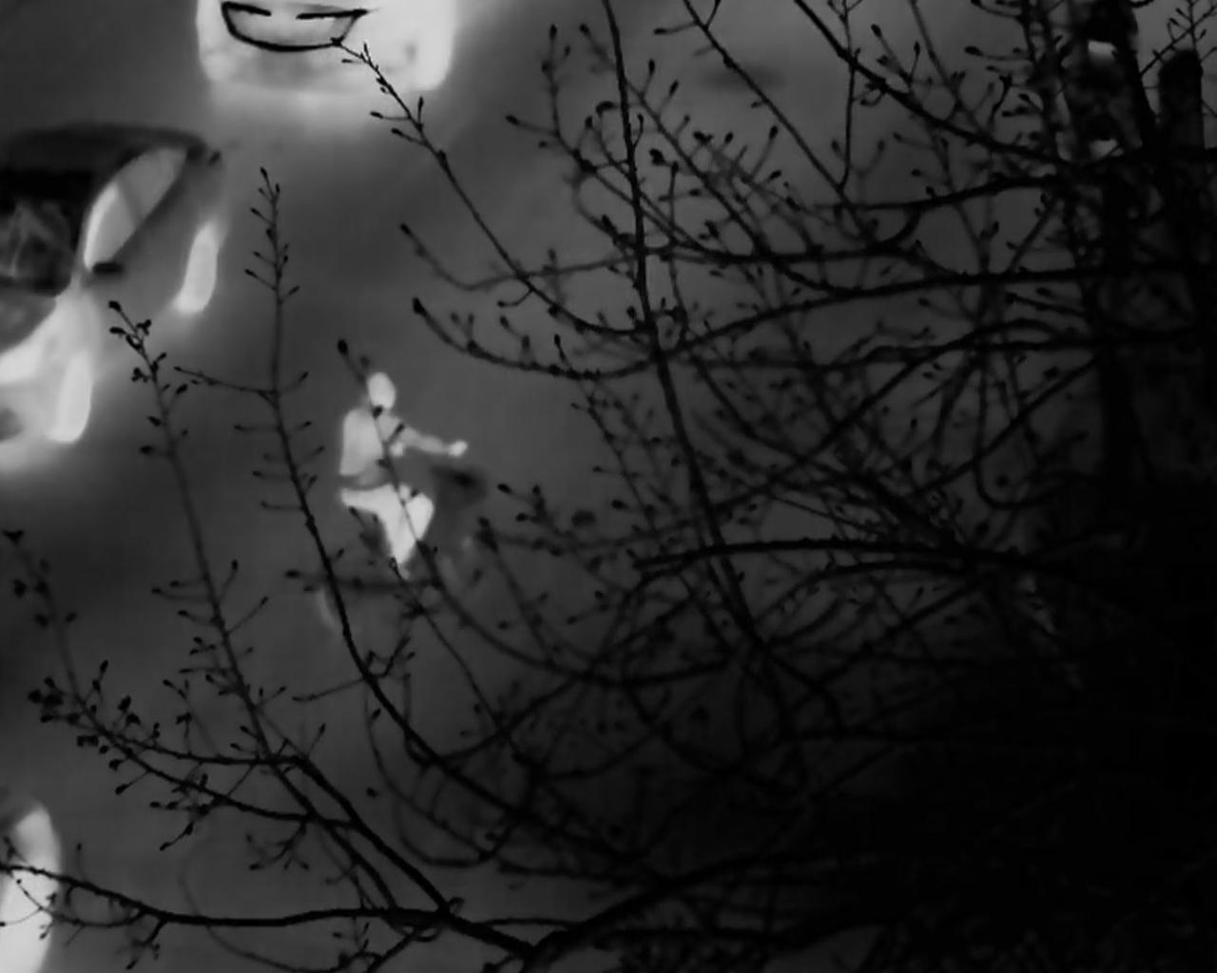person: (333, 370, 468, 577)
